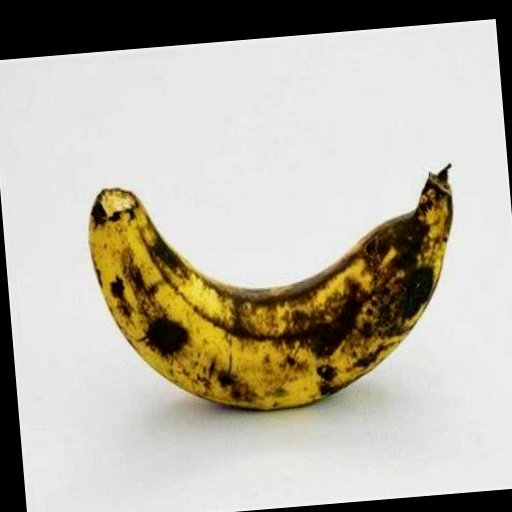fruit: (90, 166, 452, 409)
